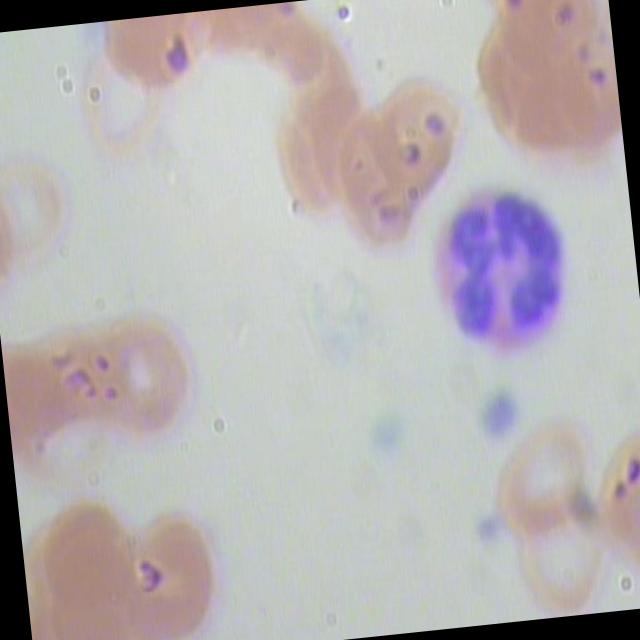Platelets: (472, 389, 520, 444)
RBC: (480, 413, 605, 552), (352, 76, 476, 214), (90, 310, 200, 464), (109, 508, 226, 640), (68, 50, 168, 176), (266, 104, 365, 230), (33, 501, 132, 626), (487, 0, 601, 79)
WBC: (421, 177, 581, 370)
